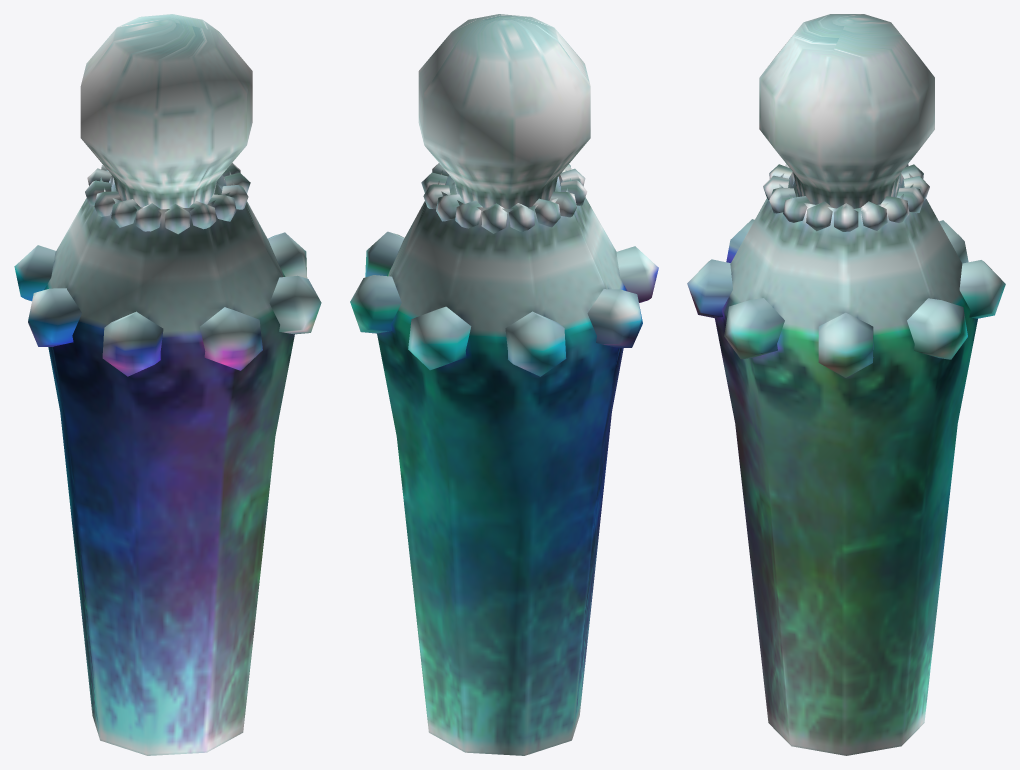
The model's file is ft.ico.obj.
3 views of the same model, side by side, from view 1: azimuth 30°, elevation 25°; view 2: azimuth 150°, elevation 25°; view 3: azimuth 270°, elevation 25° (orthographic).
Size of the model in its own units: 1.94 by 4.72 by 1.94.
1 material, 1 textured.
